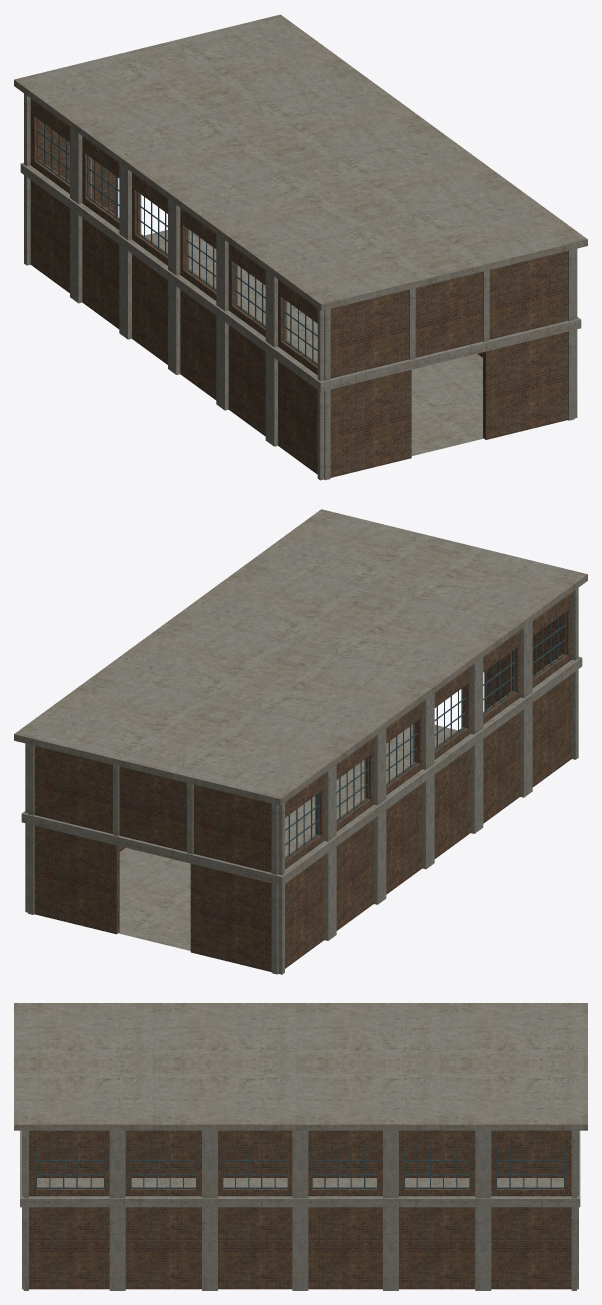
Rendered from Building_Fdc06_2048.glb.
The picture shows the model from 3 angles, top to bottom: view 1: azimuth 30°, elevation 25°; view 2: azimuth 150°, elevation 25°; view 3: azimuth 270°, elevation 25°; orthographic projection. The views are drawn at different scales.
Parts seen in each view (by area): view 1: xiutz_fdc_06; view 2: xiutz_fdc_06; view 3: xiutz_fdc_06.
Part boxes in pixels (x1,y1,x2,y2): xiutz_fdc_06: (14, 14, 587, 480); xiutz_fdc_06: (14, 509, 587, 974); xiutz_fdc_06: (14, 1003, 587, 1290).
Bounding box in the file's own units: 12.94 × 8.38 × 25.83.
1 material, 1 textured.
